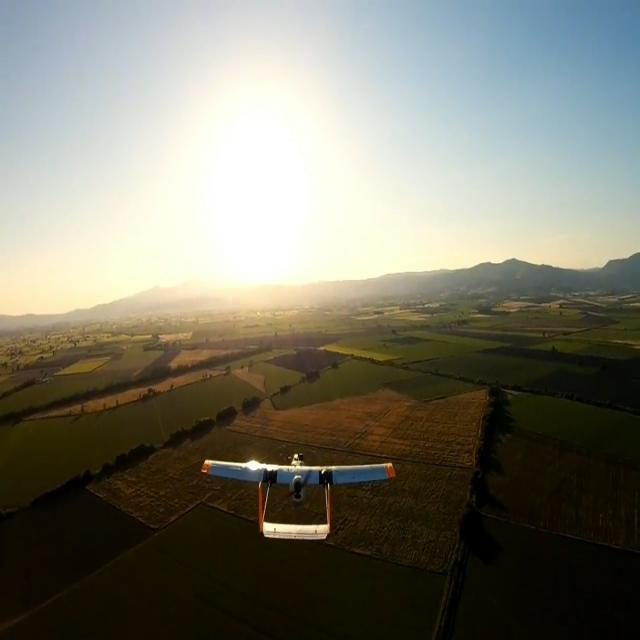iha: (196, 475, 403, 510)
